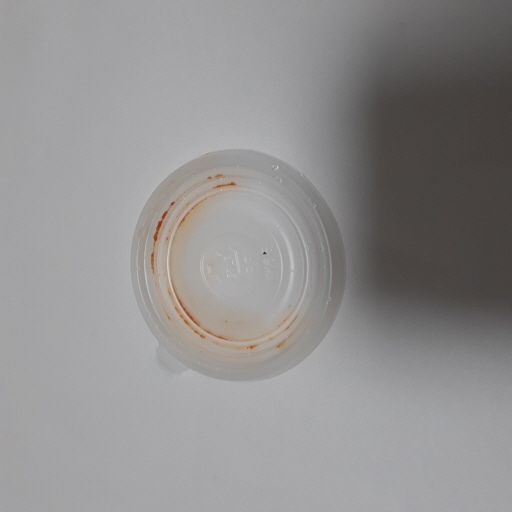Plastic_5: (126, 140, 341, 390)
